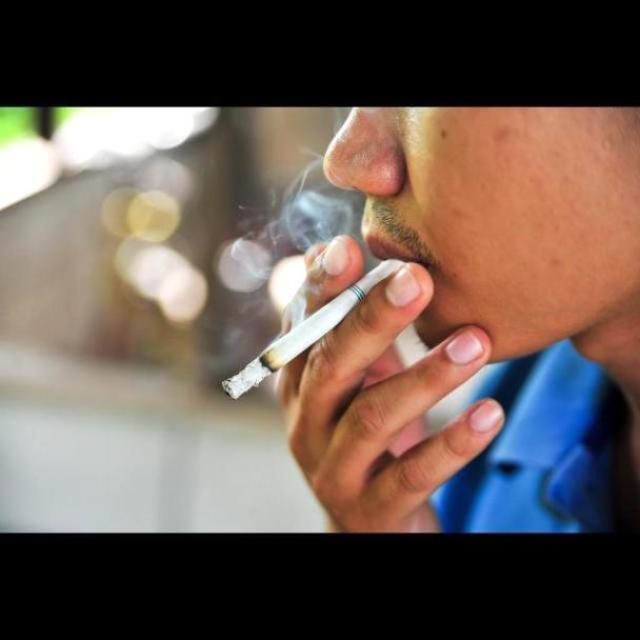rokok: (218, 257, 408, 408)
